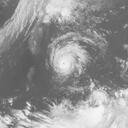cyclone: (49, 34, 89, 75)
